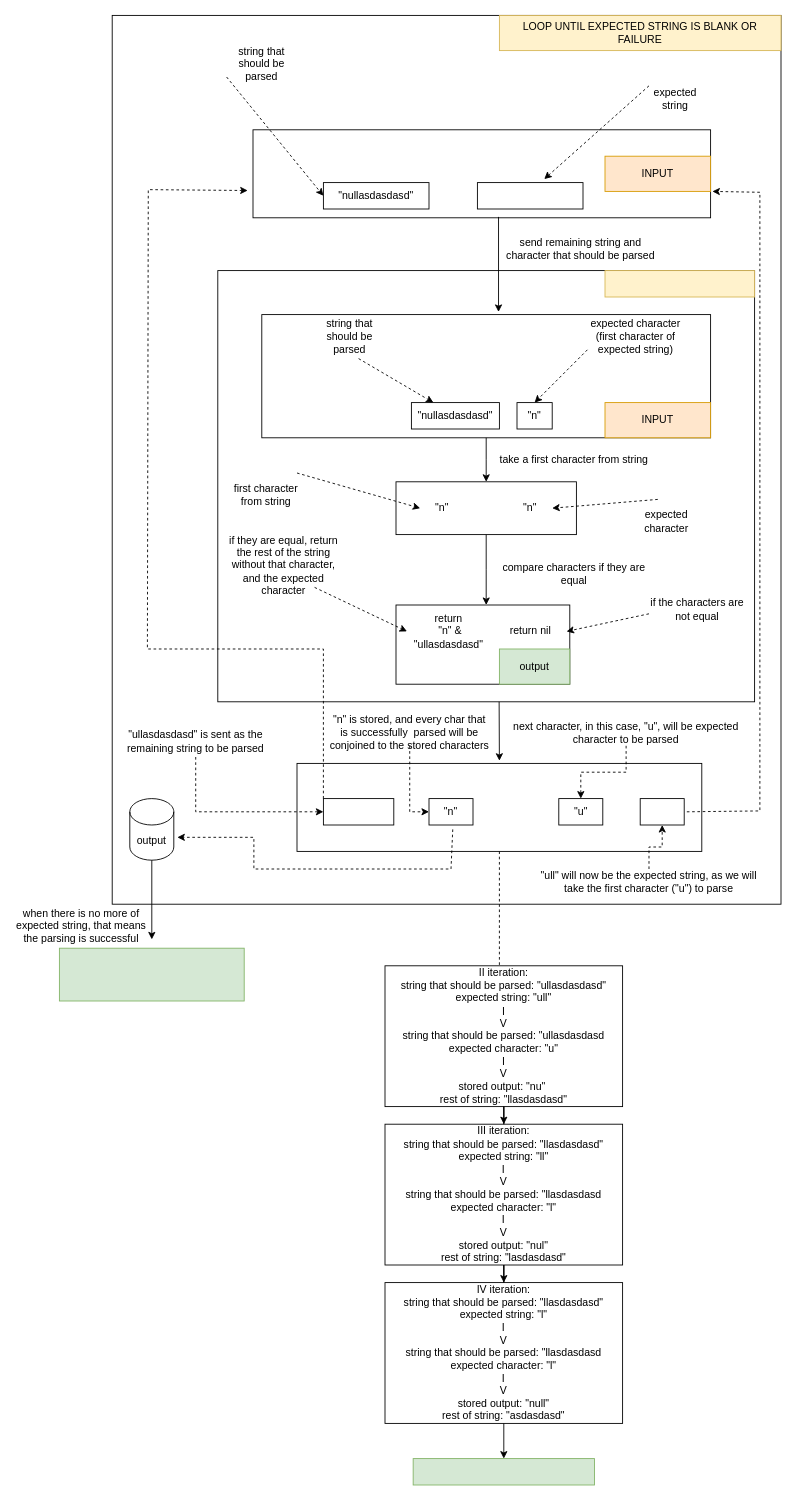
The diagram is 796 pixels wide and 1500 high, and some of its shapes have lost their labels. The shapes that lost their labels are listed below. From the top down, each one's centre as x and y in pixels, then its label:
pixel 530 195: "null"
pixel 679 283: PARSE-CHAR
pixel 358 811: "ullasdasdasd"
pixel 661 811: "ull"
pixel 151 974: output (parsed string & rest of string) "null" "asdasdasd"
pixel 503 1471: output: "null" rest of string: "asdasdasd"
